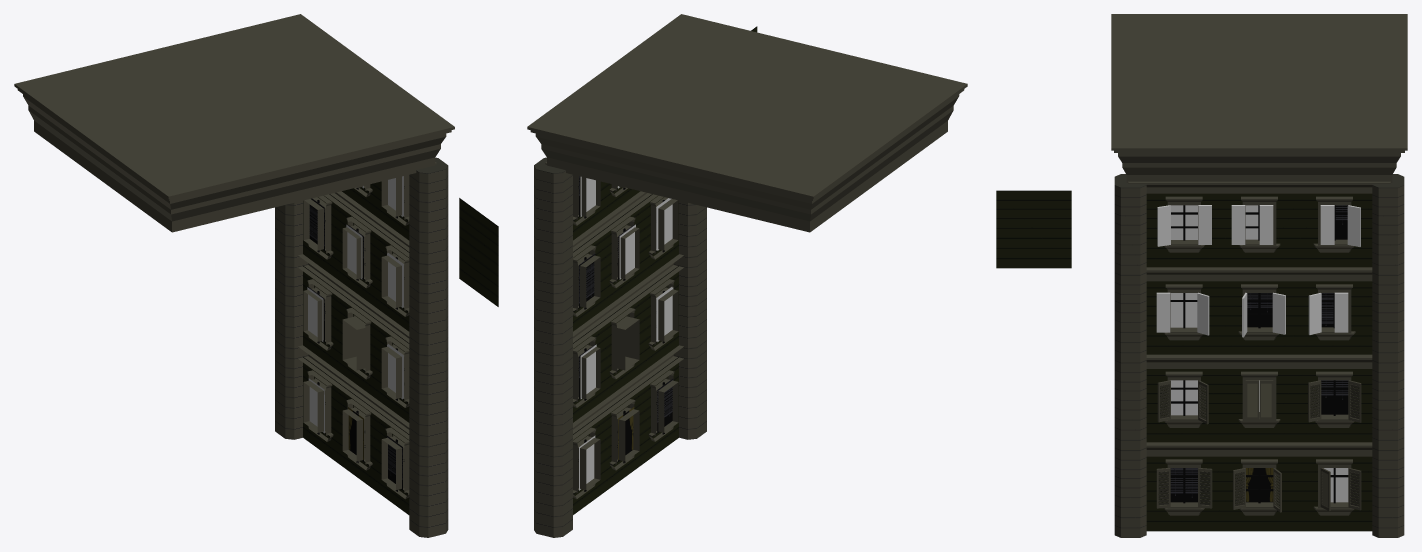
File: NewBuilding2.fbx
The picture shows the model from 3 angles, left to right: view 1: azimuth 30°, elevation 25°; view 2: azimuth 150°, elevation 25°; view 3: azimuth 270°, elevation 25°; orthographic projection. The views are drawn at different scales.
Parts seen in each view (by area): view 1: B1Top, B2Pillar.002, B2Pillar, B2Pillar.001, B2Wall2, B2Pillar.003, B2Pillar.004, B2Pillar.005, B2WallMid, B2WallMid.001, B2WinF.004, B2Wall.001 (+21 smaller); view 2: B1Top, B2Pillar.006, B2Pillar.007, B2Pillar.005, B2Pillar.004, B2Pillar, B2Pillar.001, B2WallMid, B2WallMid.001, B2WinF.004, B2Wall.001, B2Wall (+20 smaller); view 3: B1Top, B2Wall2, B2Wall.004, B2Wall.002, B2Wall.011, B2Wall.008, B2WallMid, B2WallMid.001, B2WallMid.002, B2Wall.001, B2Wall.010, B2Wall (+50 smaller).
Part boxes in pixels (<box>): B1Top: <box>14,14,454,232</box>; B2Pillar.002: <box>409,266,448,355</box>; B2Pillar: <box>409,449,448,537</box>; B2Pillar.001: <box>409,358,448,446</box>; B2Wall2: <box>459,198,498,306</box>; B2Pillar.003: <box>409,175,448,264</box>; B2Pillar.004: <box>275,350,308,439</box>; B2Pillar.005: <box>275,259,308,348</box>; B2WallMid: <box>298,345,409,439</box>; B2WallMid.001: <box>298,254,409,348</box>; B2WinF.004: <box>342,308,372,379</box>; B2Wall.001: <box>342,385,381,494</box>; B1Top: <box>527,14,967,232</box>; B2Pillar.006: <box>534,266,572,355</box>; B2Pillar.007: <box>534,175,572,264</box>; B2Pillar.005: <box>534,357,572,446</box>; B2Pillar.004: <box>534,449,572,537</box>; B2Pillar: <box>673,351,706,439</box>; B2Pillar.001: <box>673,259,706,348</box>; B2WallMid: <box>573,345,683,439</box>; B2WallMid.001: <box>573,254,683,348</box>; B2WinF.004: <box>609,307,639,379</box>; B2Wall.001: <box>601,385,639,494</box>; B2Wall: <box>640,357,678,465</box>; B1Top: <box>1111,14,1407,182</box>; B2Wall2: <box>996,190,1071,268</box>; B2Wall.004: <box>1222,369,1296,442</box>; B2Wall.002: <box>1297,456,1372,531</box>; B2Wall.011: <box>1297,193,1372,267</box>; B2Wall.008: <box>1297,281,1372,354</box>; B2WallMid: <box>1146,442,1372,456</box>; B2WallMid.001: <box>1146,354,1372,368</box>; B2WallMid.002: <box>1146,267,1372,281</box>; B2Wall.001: <box>1222,456,1296,531</box>; B2Wall.010: <box>1222,193,1296,267</box>; B2Wall: <box>1146,456,1221,531</box>.
Bounding box in the file's own units: 1482 × 2006 × 1915.
